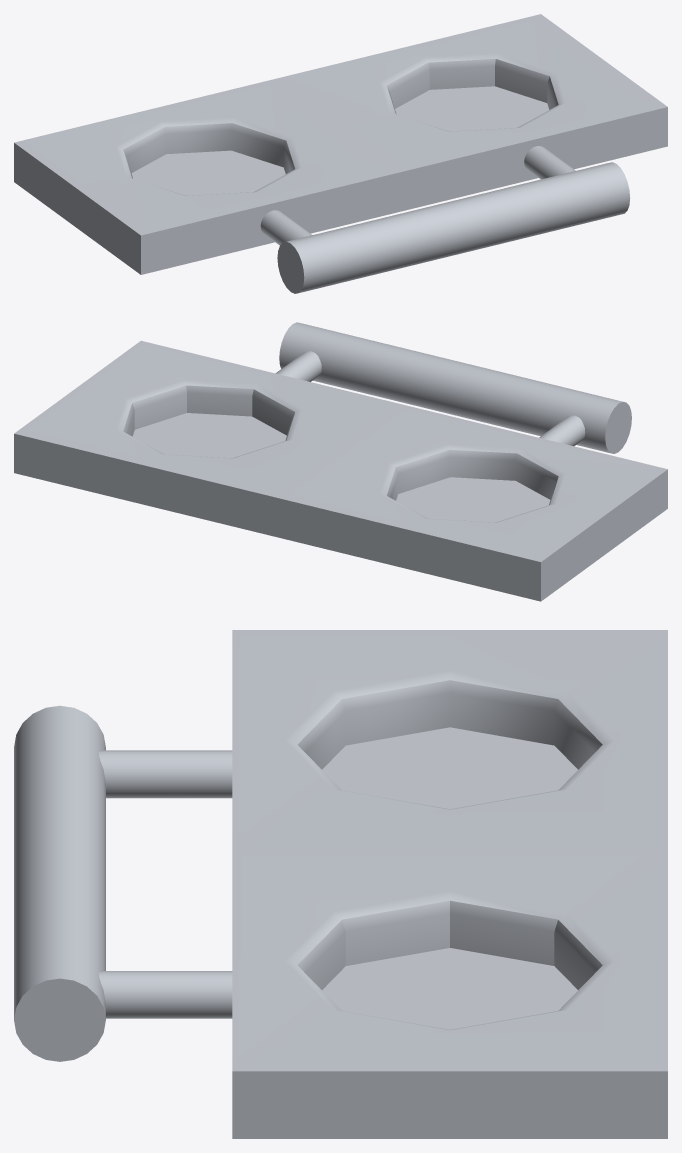
The model's file is SM_HangingFeeder.fbx.
3 renders of one model, top to bottom at view 1: azimuth 30°, elevation 25°; view 2: azimuth 150°, elevation 25°; view 3: azimuth 270°, elevation 25°, orthographic. The views are drawn at different scales.
Parts seen in each view (by area): view 1: SM_HangingFeeder; view 2: SM_HangingFeeder; view 3: SM_HangingFeeder.
Part boxes in pixels (x1,y1,x2,y2): SM_HangingFeeder: [14, 14, 667, 293]; SM_HangingFeeder: [14, 322, 667, 601]; SM_HangingFeeder: [14, 630, 667, 1138].
Size of the model in its own units: 63.98 by 5.64 by 40.09.
1 material, 1 textured.
